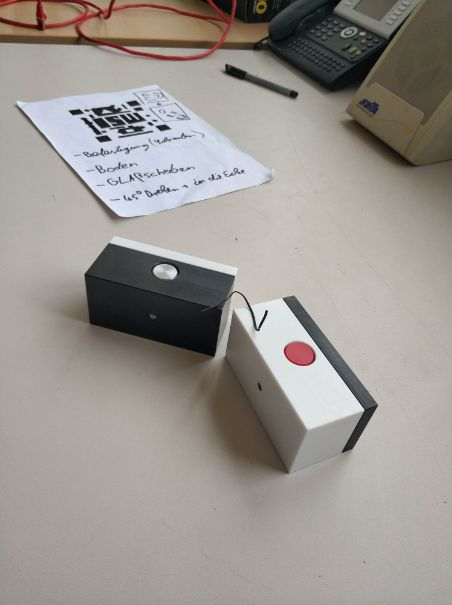black+white+red: (224, 293, 380, 476)
white+black+silver: (83, 234, 242, 358)
